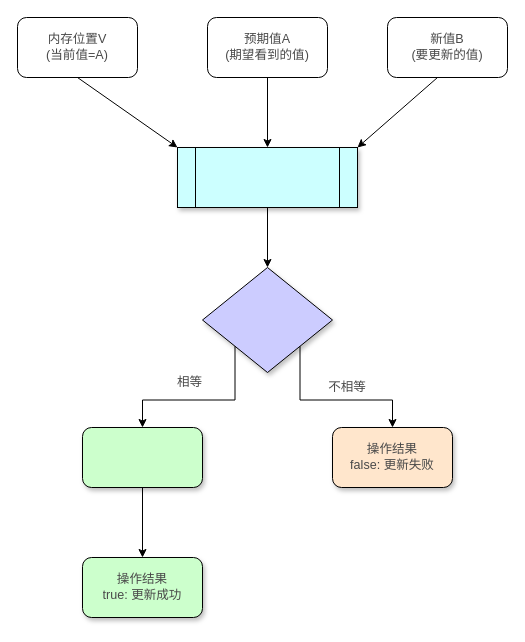
Image size: 525x642. Some labels were removed from this diagram. Each missing label, with the centre of its shape:
"CPU执行CAS 指令" belongs at point (268, 178).
"内存位置V (当前值=B)" belongs at point (143, 458).
"比较内存位置V的值与预期值A" belongs at point (268, 321).
